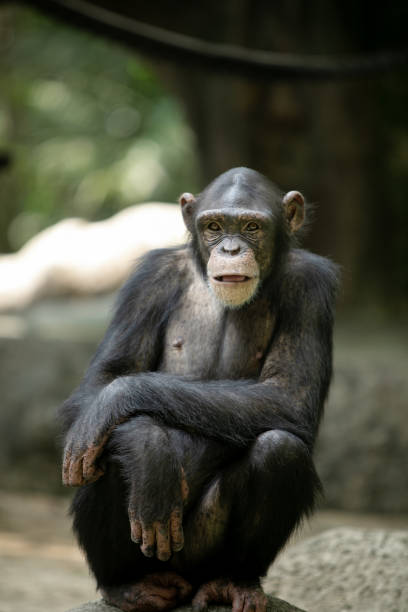chimpanzee: (164, 150, 317, 320)
